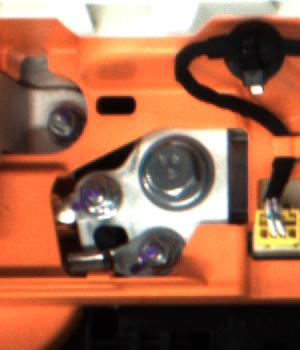nut_b: (130, 132, 222, 212)
